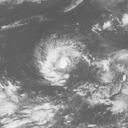cyclone: (34, 37, 84, 84)
